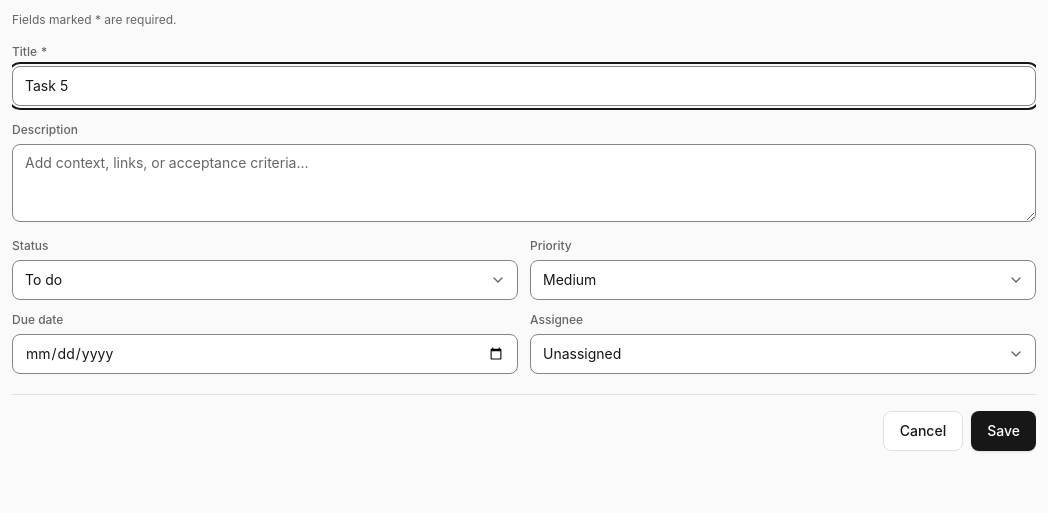
Test case: describes and focuses server-rejected select fields
Step 1. Click the button "Save" → (1004, 431), box [971, 411, 1036, 451]
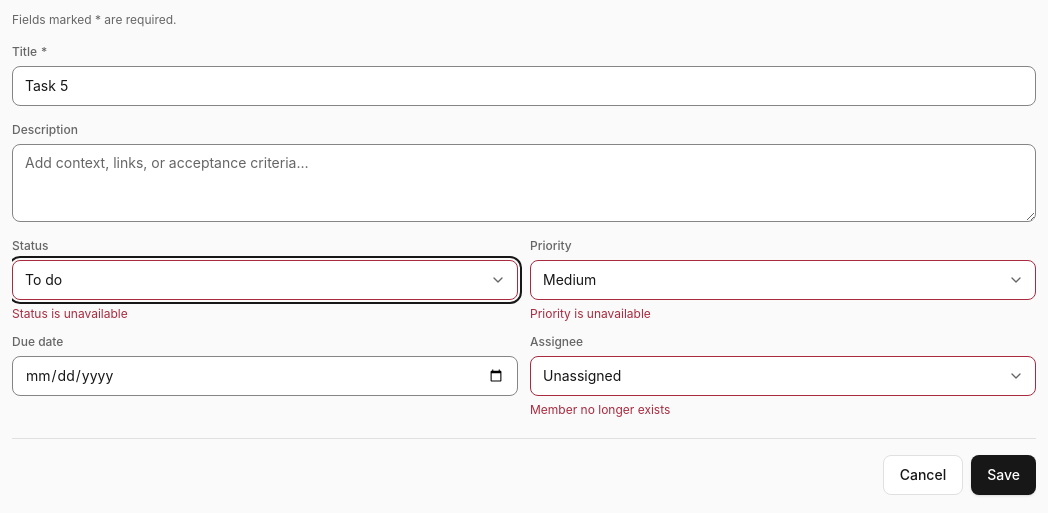
Result: the text "Status is unavailable" is shown at [12, 306, 128, 321]
